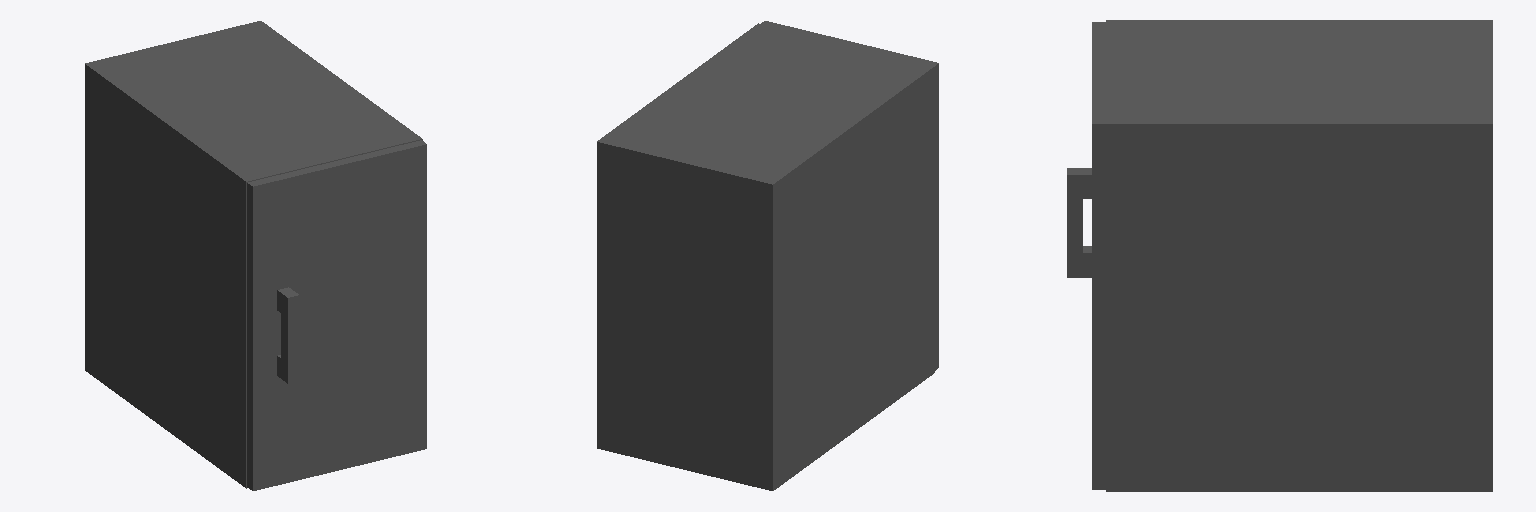
URDF robot description (Scene):
<?xml version='1.0' encoding='ASCII'?>
<robot name="Scene">
  <link name="cabinet_corpus">
    <inertial>
      <origin xyz="0.0 0.0 0.0" rpy="0.0 -0.0 0.0"/>
      <mass value="0.026479649999999993"/>
      <inertia ixx="1.0" ixy="0.0" ixz="0.0" iyy="1.0" iyz="0.0" izz="1.0"/>
    </inertial>
    <visual name="cabinet_back">
      <geometry>
        <box size="0.361 0.02 0.58"/>
      </geometry>
      <origin xyz="0.0 0.2865 0.29" rpy="0.0 -0.0 0.0"/>
      <material name="cabinet_back_main_color">
        <color rgba="0.4 0.4 0.4 1.0"/>
      </material>
    </visual>
    <visual name="cabinet_left">
      <geometry>
        <box size="0.02 0.5529999999999999 0.58"/>
      </geometry>
      <origin xyz="-0.17049999999999998 0.0 0.29" rpy="0.0 -0.0 0.0"/>
      <material name="cabinet_left_main_color">
        <color rgba="0.4 0.4 0.4 1.0"/>
      </material>
    </visual>
    <visual name="cabinet_right">
      <geometry>
        <box size="0.02 0.5529999999999999 0.58"/>
      </geometry>
      <origin xyz="0.17049999999999998 0.0 0.29" rpy="0.0 -0.0 0.0"/>
      <material name="cabinet_right_main_color">
        <color rgba="0.4 0.4 0.4 1.0"/>
      </material>
    </visual>
    <visual name="cabinet_shelf_0_0_0">
      <geometry>
        <box size="0.321 0.5529999999999999 0.01"/>
      </geometry>
      <origin xyz="0.0 0.0 0.3" rpy="0.0 -0.0 0.0"/>
      <material name="cabinet_shelf_0_0_0_main_color">
        <color rgba="0.4 0.4 0.4 1.0"/>
      </material>
    </visual>
    <visual name="cabinet_surface_0_0">
      <geometry>
        <box size="0.321 0.5529999999999999 0.02"/>
      </geometry>
      <origin xyz="0.0 0.0 0.010000000000000018" rpy="0.0 -0.0 0.0"/>
      <material name="cabinet_surface_0_0_main_color">
        <color rgba="0.4 0.4 0.4 1.0"/>
      </material>
    </visual>
    <visual name="cabinet_top">
      <geometry>
        <box size="0.361 0.573 0.02"/>
      </geometry>
      <origin xyz="0.0 0.01 0.59" rpy="0.0 -0.0 0.0"/>
      <material name="cabinet_top_main_color">
        <color rgba="0.4 0.4 0.4 1.0"/>
      </material>
    </visual>
    <collision name="cabinet_back">
      <geometry>
        <box size="0.361 0.02 0.58"/>
      </geometry>
      <origin xyz="0.0 0.2865 0.29" rpy="0.0 -0.0 0.0"/>
    </collision>
    <collision name="cabinet_left">
      <geometry>
        <box size="0.02 0.5529999999999999 0.58"/>
      </geometry>
      <origin xyz="-0.17049999999999998 0.0 0.29" rpy="0.0 -0.0 0.0"/>
    </collision>
    <collision name="cabinet_right">
      <geometry>
        <box size="0.02 0.5529999999999999 0.58"/>
      </geometry>
      <origin xyz="0.17049999999999998 0.0 0.29" rpy="0.0 -0.0 0.0"/>
    </collision>
    <collision name="cabinet_shelf_0_0_0">
      <geometry>
        <box size="0.321 0.5529999999999999 0.01"/>
      </geometry>
      <origin xyz="0.0 0.0 0.3" rpy="0.0 -0.0 0.0"/>
    </collision>
    <collision name="cabinet_surface_0_0">
      <geometry>
        <box size="0.321 0.5529999999999999 0.02"/>
      </geometry>
      <origin xyz="0.0 0.0 0.010000000000000018" rpy="0.0 -0.0 0.0"/>
    </collision>
    <collision name="cabinet_top">
      <geometry>
        <box size="0.361 0.573 0.02"/>
      </geometry>
      <origin xyz="0.0 0.01 0.59" rpy="0.0 -0.0 0.0"/>
    </collision>
  </link>
  <link name="cabinet_door_0_0">
    <inertial>
      <origin xyz="0.0 0.0 0.0" rpy="0.0 -0.0 0.0"/>
      <mass value="0.10000000000000003"/>
      <inertia ixx="1.0" ixy="0.0" ixz="0.0" iyy="1.0" iyz="0.0" izz="1.0"/>
    </inertial>
    <visual name="cabinet_door_0_0_door">
      <geometry>
        <box size="0.357 0.02 0.596"/>
      </geometry>
      <origin xyz="-0.1785 0.01 0.0" rpy="0.0 -0.0 0.0"/>
      <material name="cabinet_door_0_0_door_main_color">
        <color rgba="0.4 0.4 0.4 1.0"/>
      </material>
    </visual>
    <visual name="cabinet_door_0_0_handle_part_0">
      <geometry>
        <box size="0.024 0.1682 0.024"/>
      </geometry>
      <origin xyz="-0.295 -0.026 0.0" rpy="1.5707963267948966 -0.0 1.5707963267948966"/>
      <material name="cabinet_door_0_0_handle_part_0_main_color">
        <color rgba="0.4 0.4 0.4 1.0"/>
      </material>
    </visual>
    <visual name="cabinet_door_0_0_handle_part_1">
      <geometry>
        <box size="0.013999999999999999 0.04 0.024"/>
      </geometry>
      <origin xyz="-0.295 -0.006999999999999999 -0.06409999999999999" rpy="1.5707963267948966 -0.0 1.5707963267948966"/>
      <material name="cabinet_door_0_0_handle_part_1_main_color">
        <color rgba="0.4 0.4 0.4 1.0"/>
      </material>
    </visual>
    <visual name="cabinet_door_0_0_handle_part_2">
      <geometry>
        <box size="0.013999999999999999 0.04 0.024"/>
      </geometry>
      <origin xyz="-0.295 -0.006999999999999999 0.06409999999999999" rpy="1.5707963267948966 -0.0 1.5707963267948966"/>
      <material name="cabinet_door_0_0_handle_part_2_main_color">
        <color rgba="0.4 0.4 0.4 1.0"/>
      </material>
    </visual>
    <collision name="cabinet_door_0_0_door">
      <geometry>
        <box size="0.357 0.02 0.596"/>
      </geometry>
      <origin xyz="-0.1785 0.01 0.0" rpy="0.0 -0.0 0.0"/>
    </collision>
    <collision name="cabinet_door_0_0_handle_part_0">
      <geometry>
        <box size="0.024 0.1682 0.024"/>
      </geometry>
      <origin xyz="-0.295 -0.026 0.0" rpy="1.5707963267948966 -0.0 1.5707963267948966"/>
    </collision>
    <collision name="cabinet_door_0_0_handle_part_1">
      <geometry>
        <box size="0.013999999999999999 0.04 0.024"/>
      </geometry>
      <origin xyz="-0.295 -0.006999999999999999 -0.06409999999999999" rpy="1.5707963267948966 -0.0 1.5707963267948966"/>
    </collision>
    <collision name="cabinet_door_0_0_handle_part_2">
      <geometry>
        <box size="0.013999999999999999 0.04 0.024"/>
      </geometry>
      <origin xyz="-0.295 -0.006999999999999999 0.06409999999999999" rpy="1.5707963267948966 -0.0 1.5707963267948966"/>
    </collision>
  </link>
  <link name="world"/>
  <link name="cabinet"/>
  <joint name="cabinet_world_fixed_joint" type="fixed">
    <parent link="world"/>
    <child link="cabinet"/>
    <origin xyz="0.0 0.0 0.0" rpy="0.0 -0.0 0.0"/>
  </joint>
  <joint name="cabinet_corpus_to_door_0_0" type="revolute">
    <parent link="cabinet_corpus"/>
    <child link="cabinet_door_0_0"/>
    <origin xyz="0.1785 -0.2965 0.3" rpy="0.0 -0.0 0.0"/>
    <axis xyz="0 0 1"/>
    <limit effort="1000.0" velocity="0.1" lower="0.0" upper="1.5707963267948966"/>
  </joint>
  <joint name="cabinet_origin_joint" type="fixed">
    <parent link="cabinet"/>
    <child link="cabinet_corpus"/>
    <origin xyz="0.0 0.0 0.0" rpy="0.0 -0.0 0.0"/>
  </joint>
</robot>

--- Render facts (derived) ---
3 views of the same robot in one strip: view 1: azimuth 30°, elevation 25°; view 2: azimuth 150°, elevation 25°; view 3: azimuth 270°, elevation 25° (orthographic).
Model Scene with 4 links and 3 joints (1 revolute, 2 fixed), rooted at world, posed every joint at zero.
Links seen in each view (by area): view 1: cabinet_corpus, cabinet_door_0_0; view 2: cabinet_corpus, cabinet_door_0_0; view 3: cabinet_corpus, cabinet_door_0_0.
Boxes of the visible links, bbox=[...] form: cabinet_corpus: bbox=[85, 21, 422, 488]; cabinet_door_0_0: bbox=[247, 140, 426, 490]; cabinet_corpus: bbox=[597, 23, 934, 490]; cabinet_door_0_0: bbox=[761, 21, 938, 370]; cabinet_corpus: bbox=[1106, 20, 1492, 491]; cabinet_door_0_0: bbox=[1067, 22, 1105, 489].
Bounding box of the posed robot: 0.361 × 0.631 × 0.6 m (x, y, z).
Geometry: primitives only (box / cylinder / sphere), no mesh files.